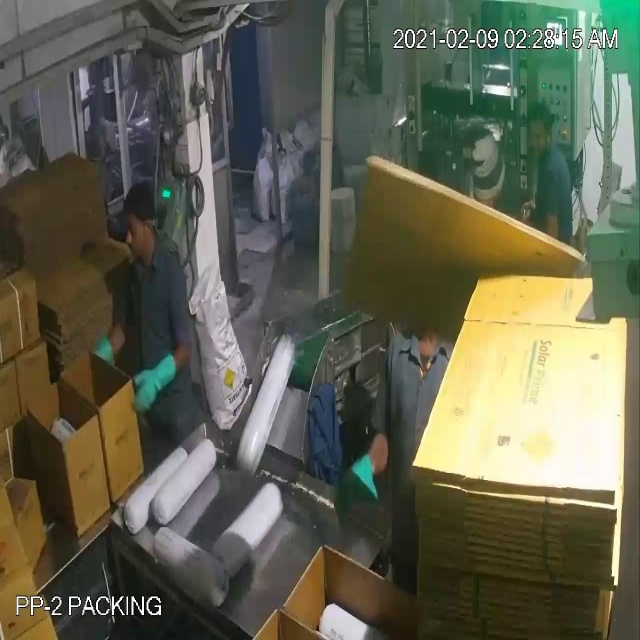Guantes: (328, 445, 385, 519), (132, 354, 179, 414)
